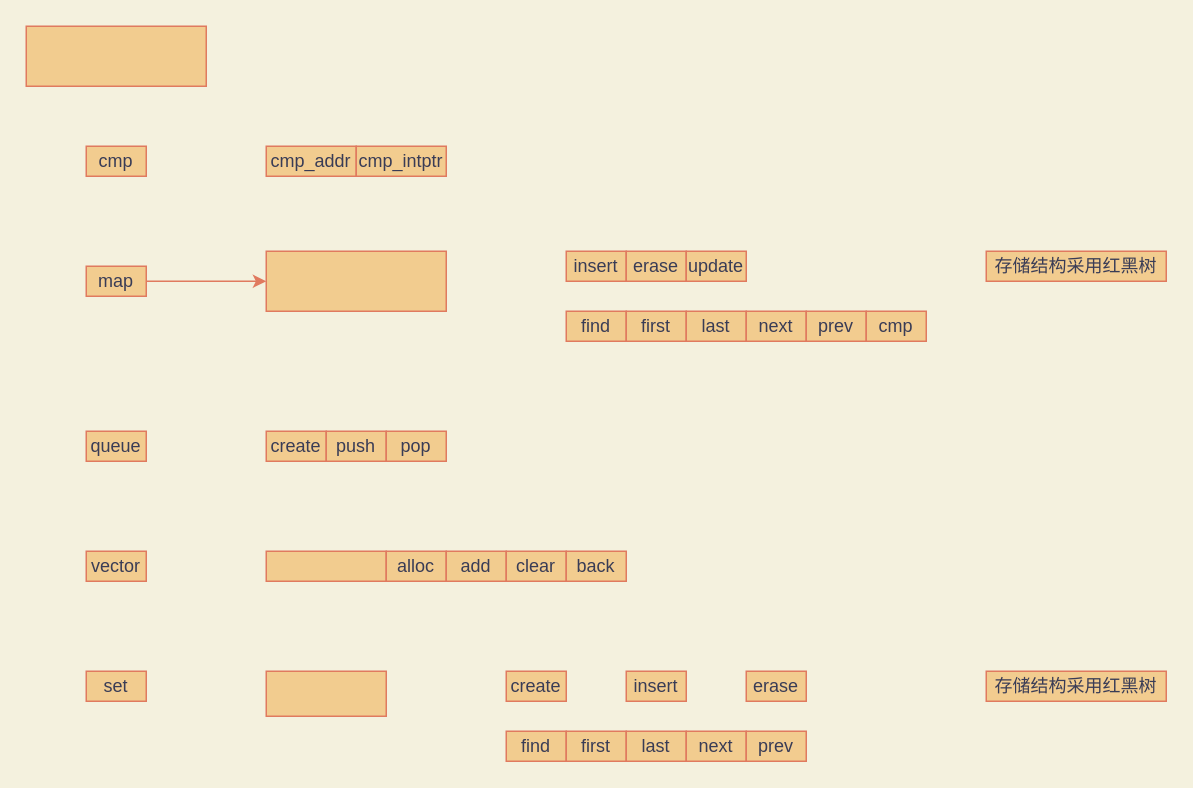
The diagram is 1193 pixels wide and 788 high, and some of its shapes have lost their labels. Each missing label, with the centre of its shape:
"1、addr_t, intptr_t 2、intptr_t, intptr_t" goes at [355,280].
"1、intptr_t 2、addr_t" goes at [325,693].
"create_vector" goes at [325,565].
"util" goes at [115,55].
